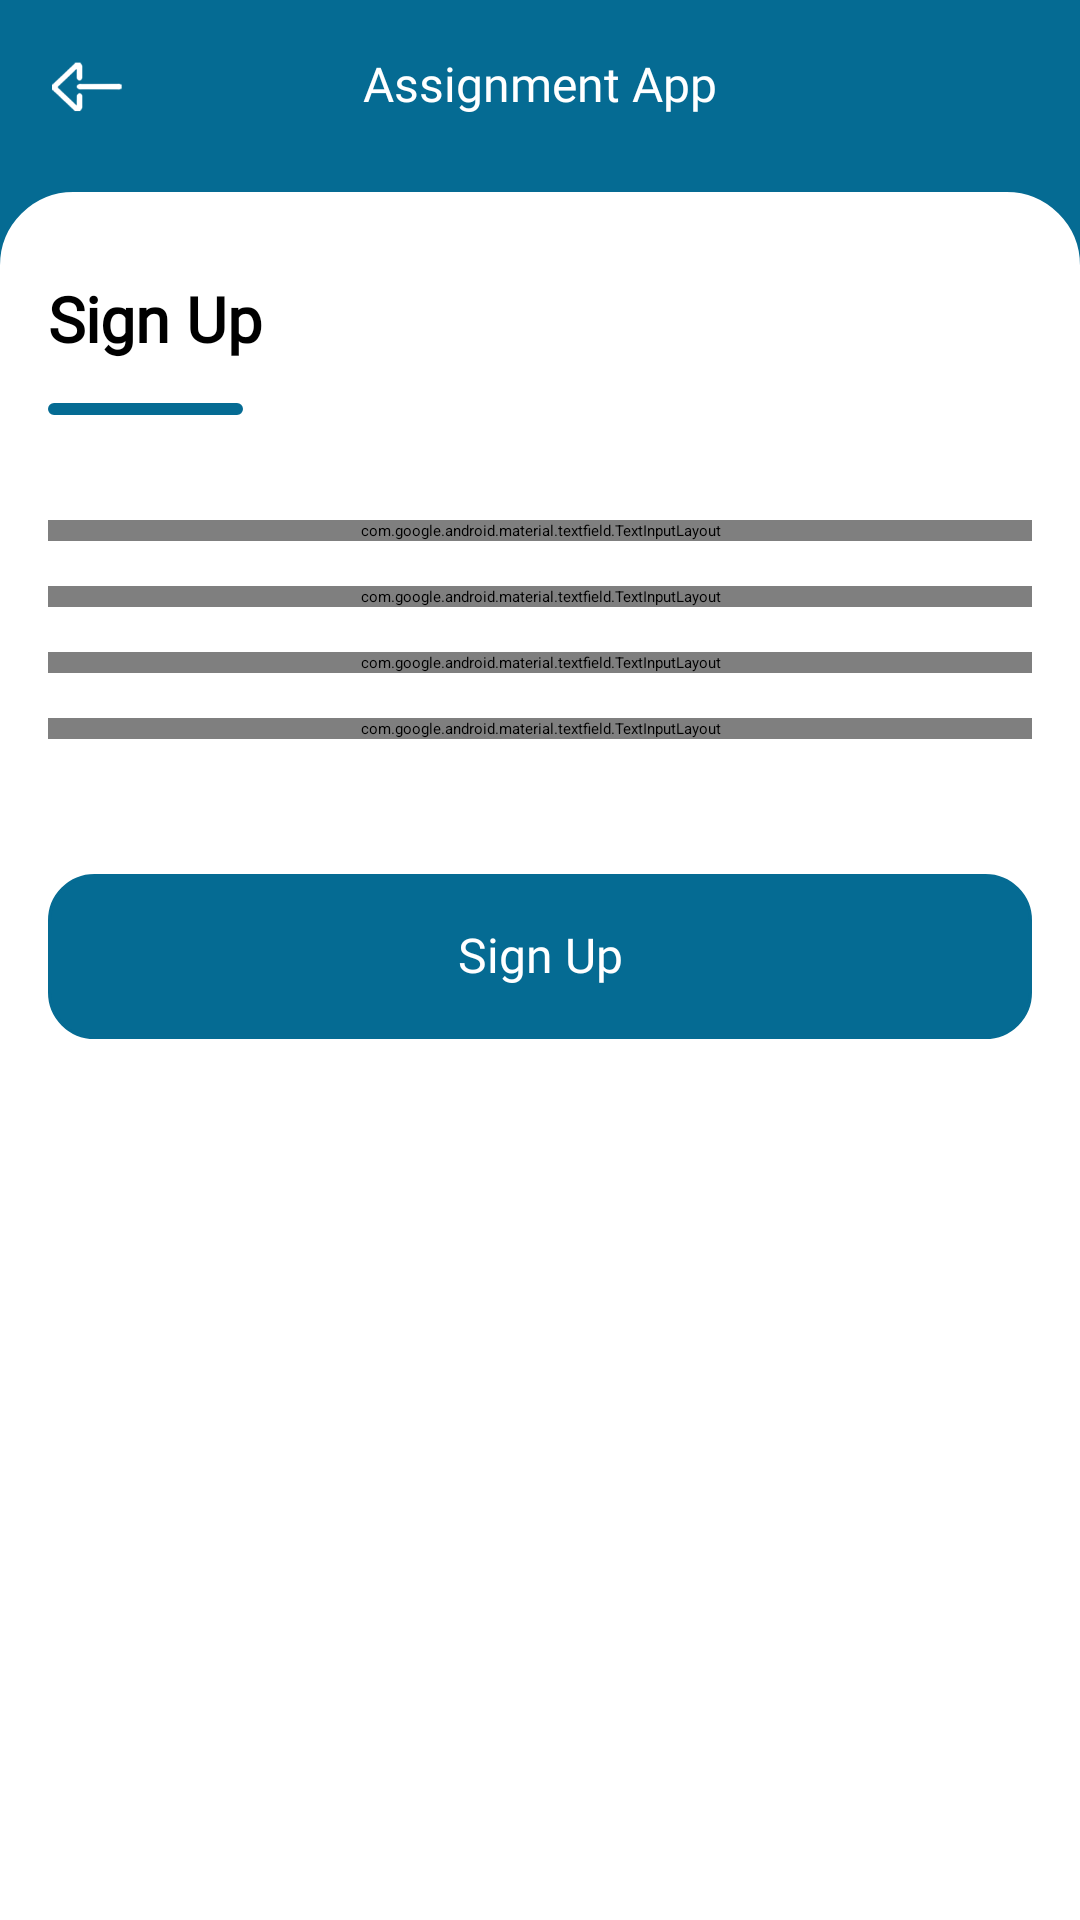

Icons on this 1080px×1920px Android screen, each with its box as (x1=x1, y1=y1, x2=x2, y2=y2):
left: (x1=52, y1=62, x2=122, y2=111)
